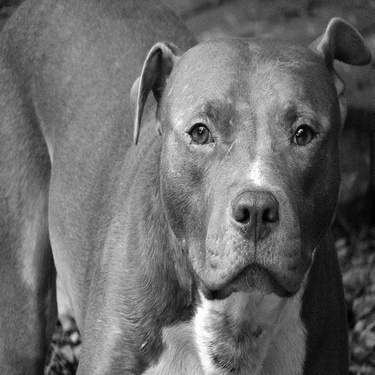dog: (3, 1, 371, 369)
